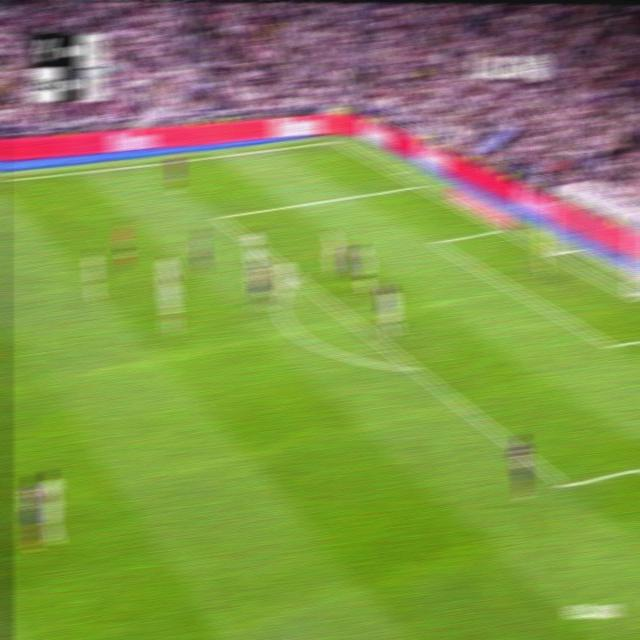bigarea_bottom_inner: (556, 471, 574, 499)
bigarea_top_inner: (213, 210, 225, 224)
bigarea_top_outter: (411, 177, 425, 191)
bottom_arc_area_intersection: (405, 357, 422, 377)
corner: (328, 133, 344, 147)
smallarea_bottom_inner: (603, 335, 620, 356)
smallarea_top_inner: (430, 236, 442, 248)
top_arc_area_intersection: (289, 266, 303, 286)
